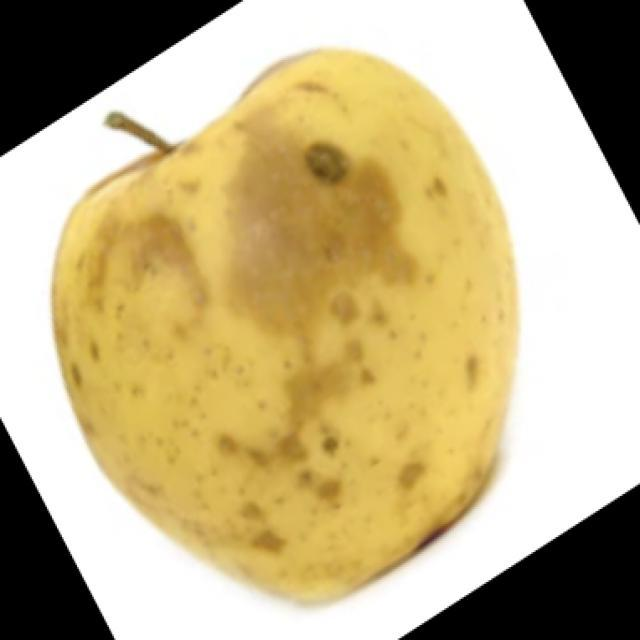Rotten: (76, 50, 516, 600)
